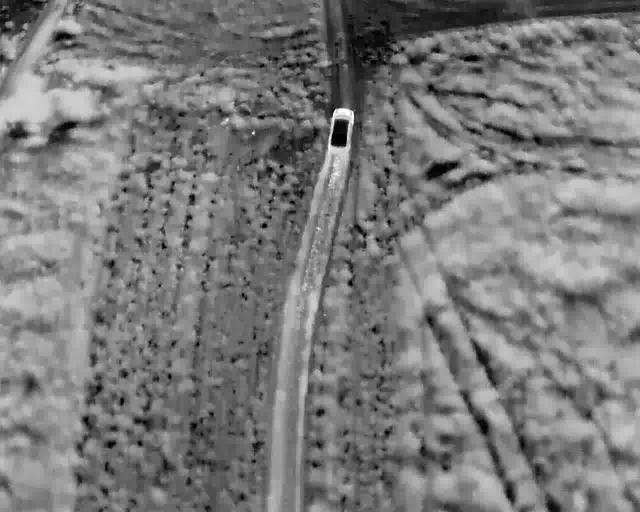car: (327, 107, 353, 154)
